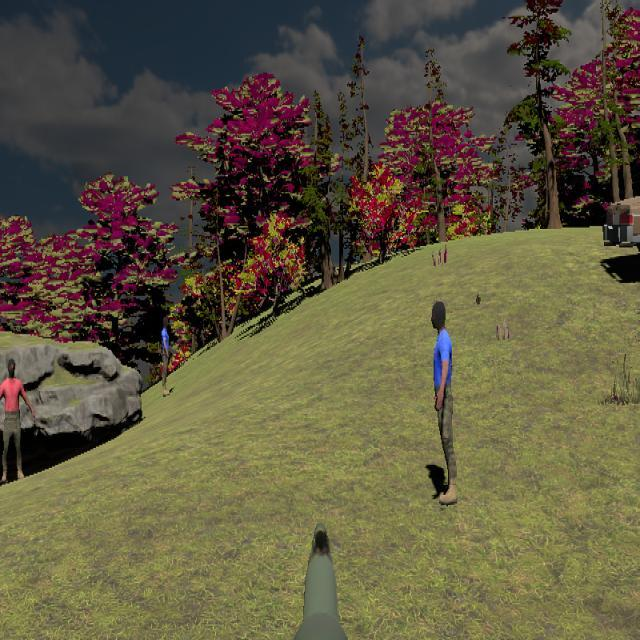Human: (432, 298, 459, 505), (0, 356, 35, 485)
car: (601, 168, 640, 268)
